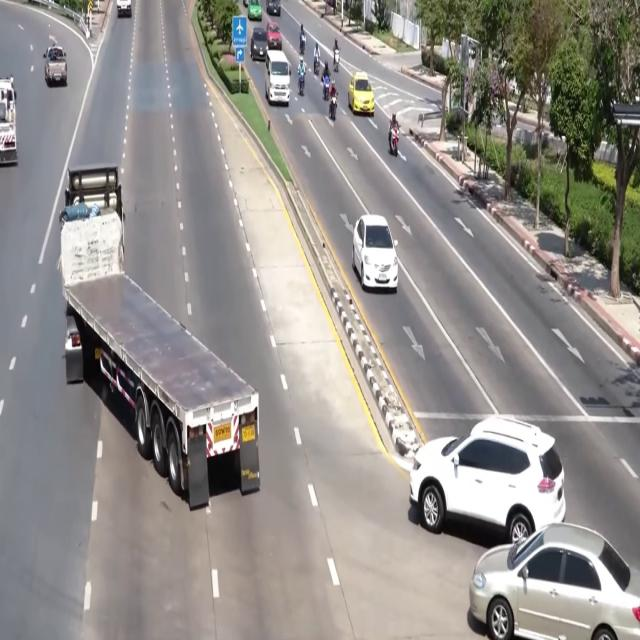car: (410, 416, 565, 543), (469, 524, 639, 639), (352, 215, 398, 292), (348, 72, 374, 115), (43, 44, 67, 86), (250, 27, 267, 60), (266, 21, 282, 49), (248, 0, 262, 21), (117, 0, 132, 17), (266, 0, 280, 16)
scooty: (389, 128, 398, 156), (322, 78, 330, 100), (330, 96, 336, 120), (333, 50, 339, 72), (299, 73, 304, 95), (300, 35, 305, 55), (314, 58, 319, 75)
truck: (58, 166, 259, 509), (0, 78, 17, 164)
